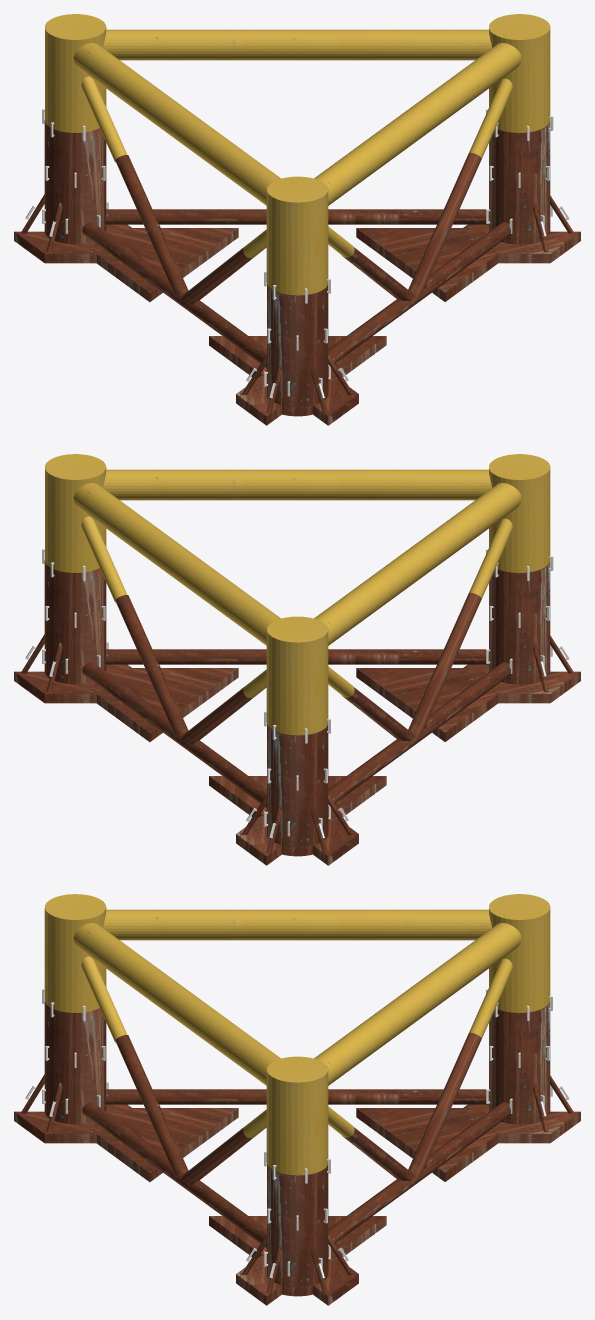
Rendered from turbine.glb.
3 renders of one model, top to bottom at view 1: azimuth 30°, elevation 25°; view 2: azimuth 150°, elevation 25°; view 3: azimuth 270°, elevation 25°, orthographic.
Visible parts, largest first — view 1: Object_20, Object_17, Object_7, Object_6, Object_11, Object_3, Object_4, Object_12, Object_13, Object_19, Object_18, Object_2 (+5 smaller); view 2: Object_20, Object_18, Object_5, Object_7, Object_12, Object_4, Object_2, Object_13, Object_11, Object_17, Object_19, Object_3 (+5 smaller); view 3: Object_20, Object_19, Object_6, Object_5, Object_13, Object_2, Object_3, Object_11, Object_12, Object_18, Object_17, Object_4 (+5 smaller).
Boxes of the visible parts, bbox=[...] form: Object_20: bbox=[73, 29, 521, 258]; Object_17: bbox=[266, 176, 328, 295]; Object_7: bbox=[82, 155, 266, 368]; Object_6: bbox=[328, 152, 512, 367]; Object_11: bbox=[267, 283, 328, 406]; Object_3: bbox=[14, 224, 238, 301]; Object_4: bbox=[356, 224, 580, 301]; Object_12: bbox=[44, 120, 106, 244]; Object_13: bbox=[489, 121, 550, 244]; Object_19: bbox=[489, 14, 550, 132]; Object_18: bbox=[45, 14, 106, 132]; Object_2: bbox=[209, 336, 386, 425]; Object_20: bbox=[73, 469, 521, 698]; Object_18: bbox=[266, 616, 328, 735]; Object_5: bbox=[82, 595, 266, 808]; Object_7: bbox=[328, 593, 512, 807]; Object_12: bbox=[267, 723, 328, 846]; Object_4: bbox=[14, 664, 238, 741]; Object_2: bbox=[356, 664, 580, 741]; Object_13: bbox=[44, 560, 106, 684]; Object_11: bbox=[489, 561, 550, 684]; Object_17: bbox=[489, 454, 550, 572]; Object_19: bbox=[45, 454, 106, 572]; Object_3: bbox=[209, 776, 386, 865]; Object_20: bbox=[73, 909, 521, 1138]; Object_19: bbox=[266, 1056, 328, 1175]; Object_6: bbox=[82, 1035, 266, 1248]; Object_5: bbox=[328, 1032, 512, 1247]; Object_13: bbox=[267, 1163, 328, 1286]; Object_2: bbox=[14, 1104, 238, 1181]; Object_3: bbox=[356, 1104, 580, 1181]; Object_11: bbox=[44, 1001, 106, 1124]; Object_12: bbox=[489, 1001, 550, 1124]; Object_18: bbox=[489, 894, 550, 1012]; Object_17: bbox=[44, 894, 106, 1012]; Object_4: bbox=[209, 1216, 386, 1305].
Bounding box in the file's own units: 47.89 × 23 × 55.29.
Materials: 19 (16 with a texture image).
